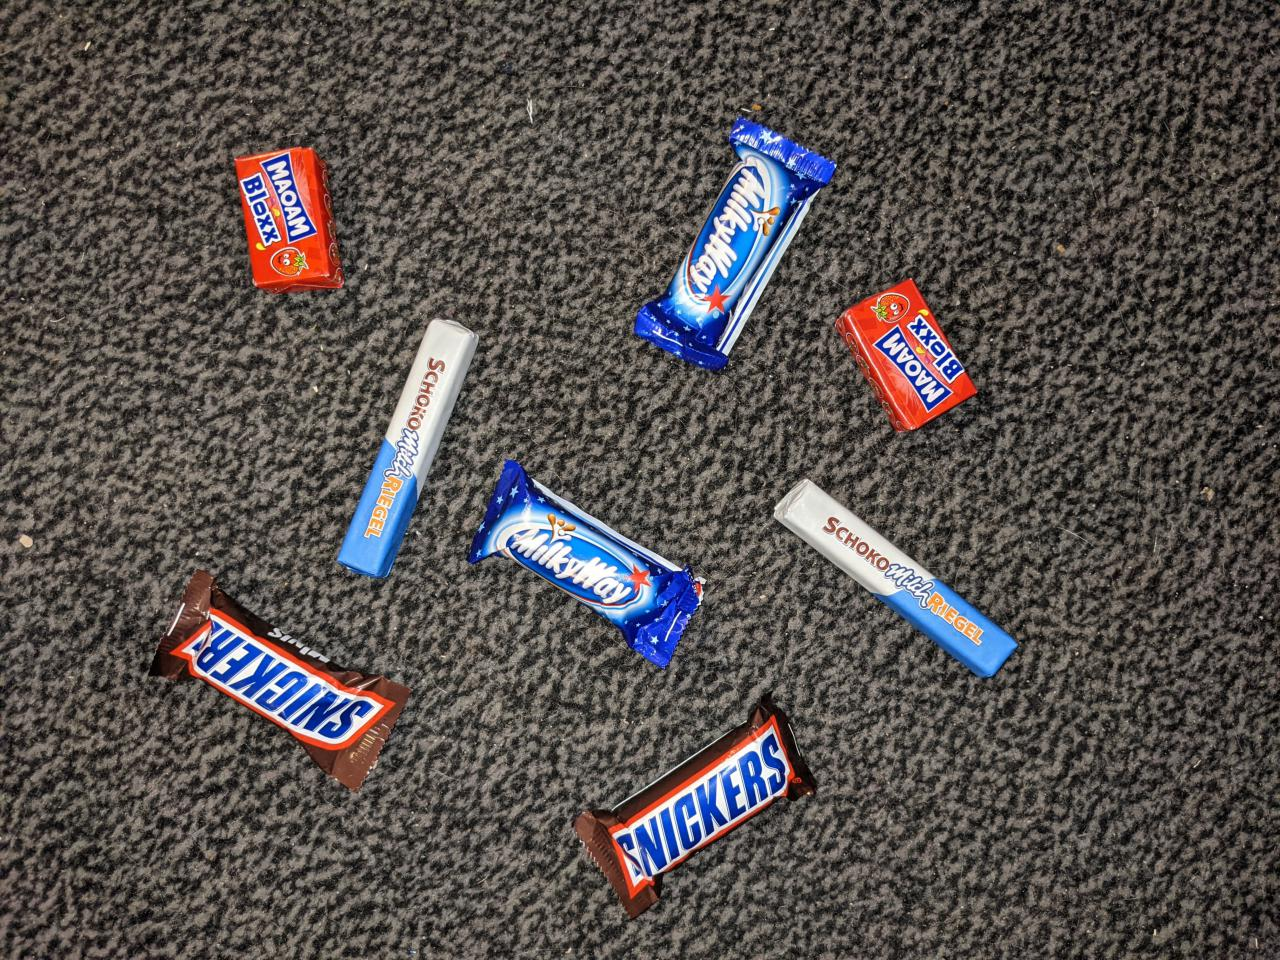MAOAM: (828, 272, 981, 436), (226, 141, 351, 299)
MilkyWay: (628, 111, 844, 377), (463, 456, 712, 672)
Schokoriegel: (765, 473, 1021, 684), (332, 311, 486, 583)
Snickers: (144, 564, 415, 794), (566, 688, 822, 924)
